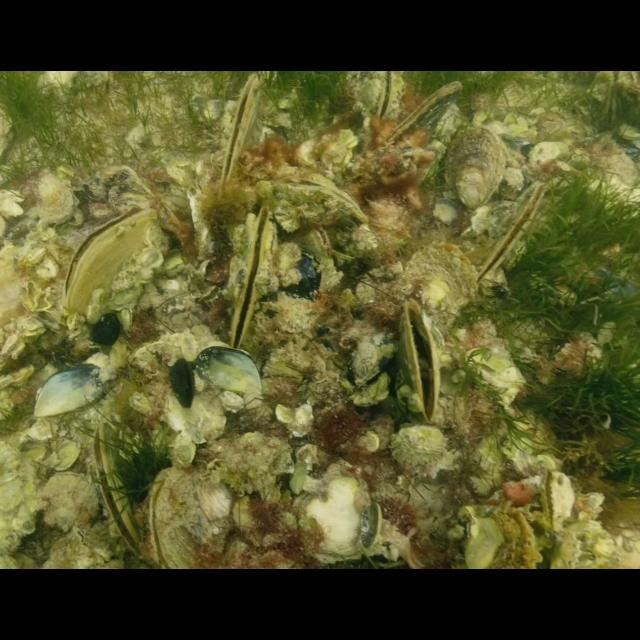Oyster-Closed: (140, 464, 222, 570), (400, 238, 480, 338), (382, 78, 463, 150), (442, 120, 508, 208)
Oyster-Open: (60, 203, 158, 314), (471, 179, 553, 287), (458, 500, 578, 570), (228, 202, 278, 348), (90, 422, 142, 560), (397, 293, 447, 427), (268, 165, 369, 231), (218, 72, 262, 180), (537, 468, 575, 528), (295, 224, 335, 262), (373, 72, 403, 122)
